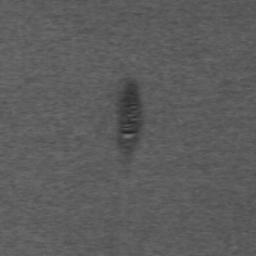Secondary rust skin: (116, 80, 142, 162)
